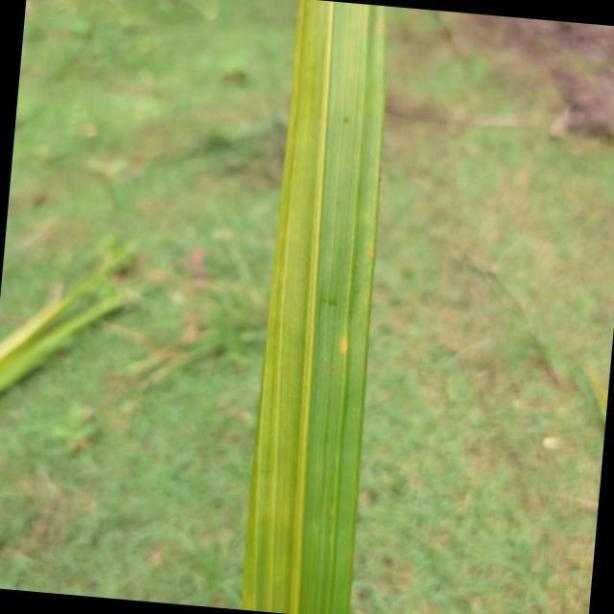nitrogen: (238, 0, 384, 614)
